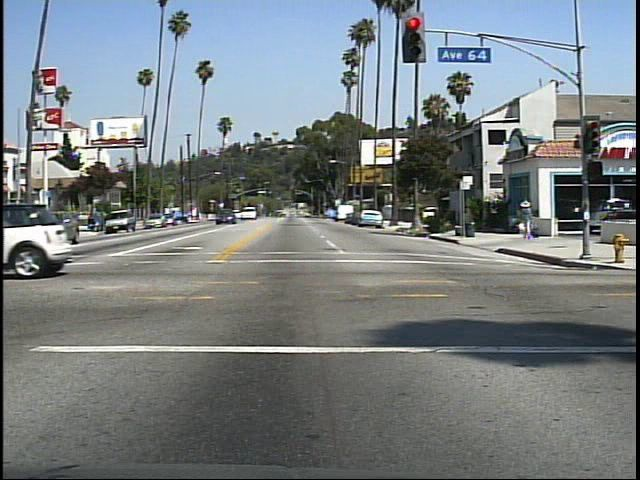person: (515, 194, 538, 243)
